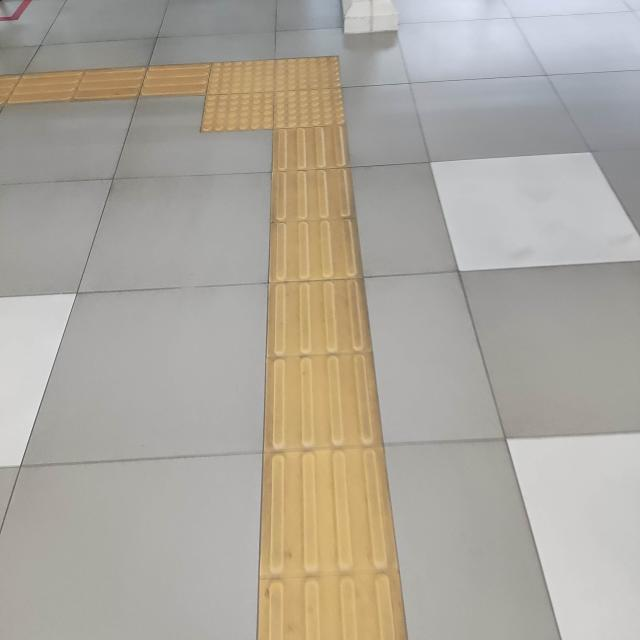kiri: (116, 43, 385, 160)
